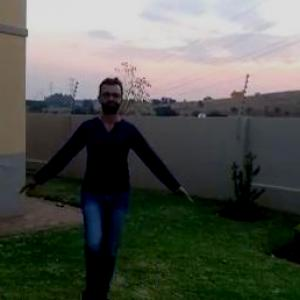land: (45, 89, 165, 296)
